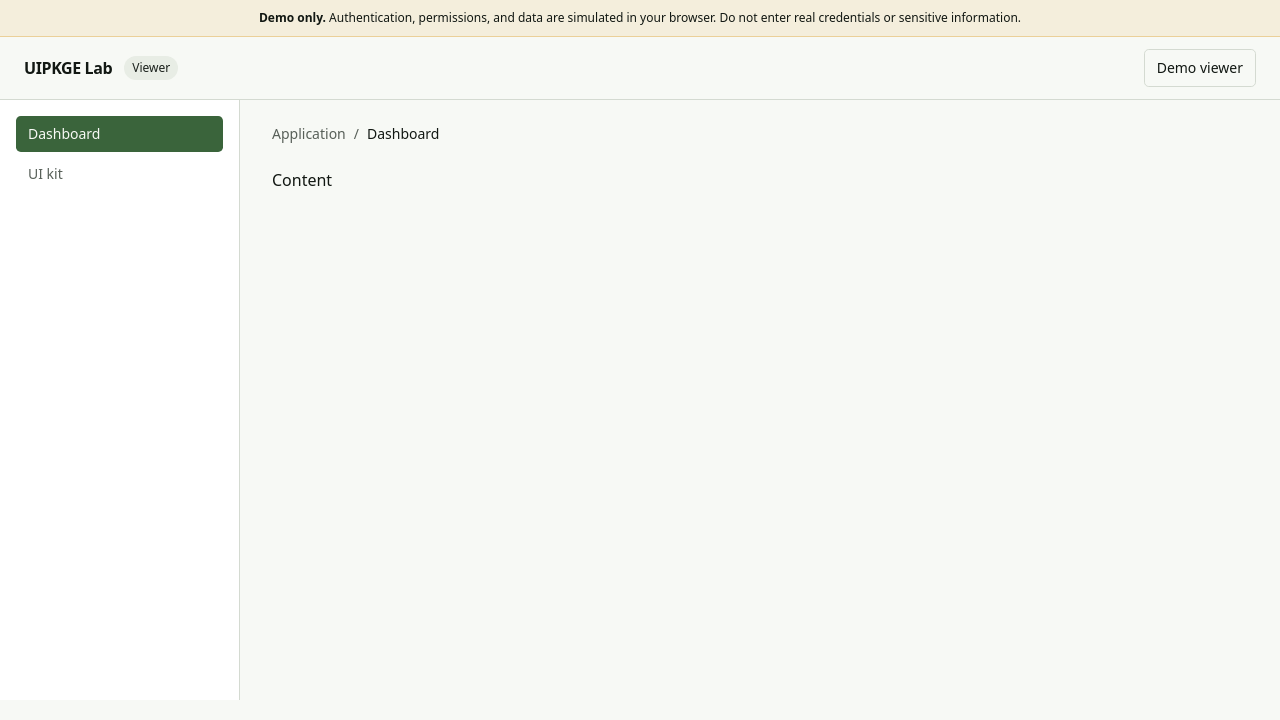
Test: AppShell › keeps a failed logout visible in the user menu
Click the heading "Demo viewer": point(1200, 68) [1144,49,1256,87]
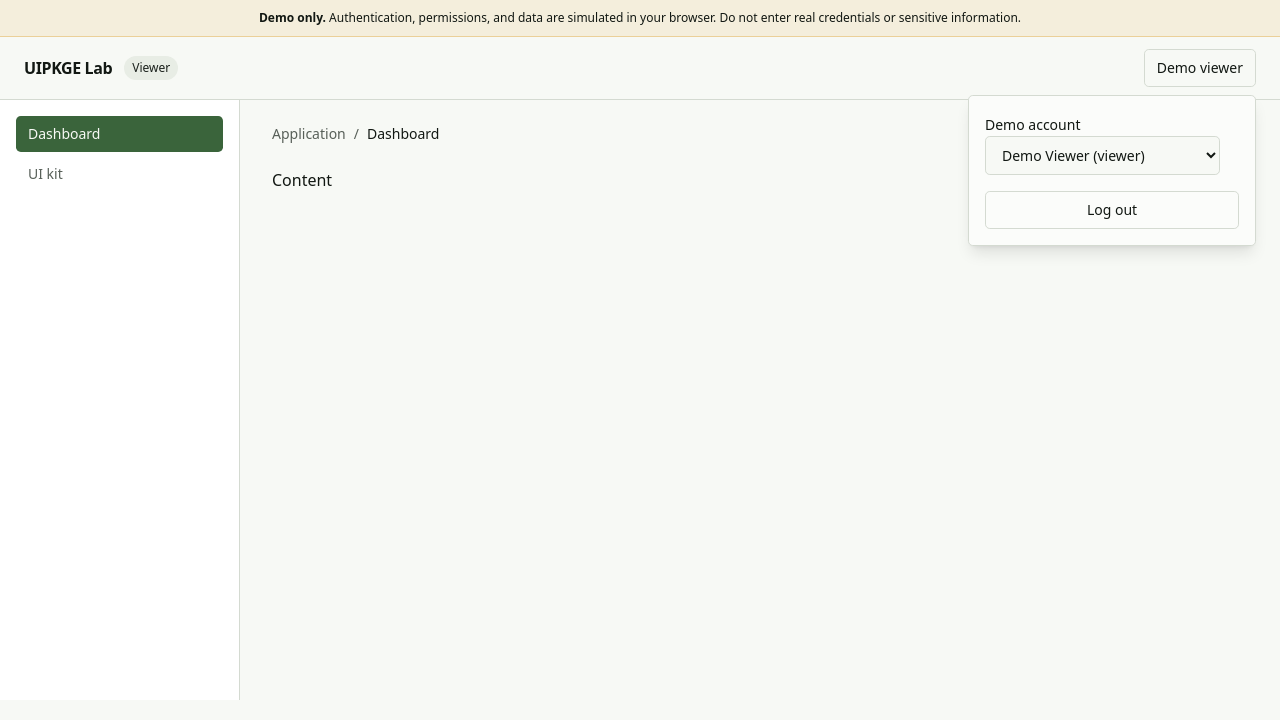
Click the button "Log out": point(1112, 210) [985,191,1239,229]
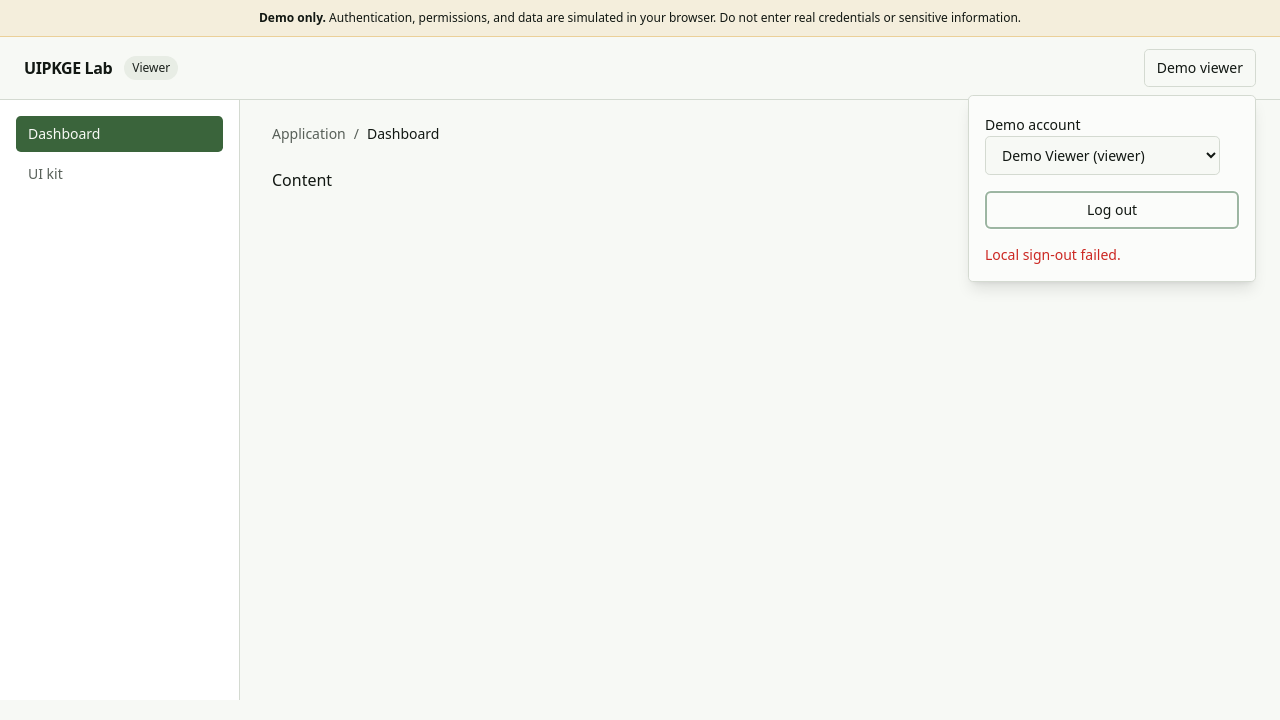
Expected: the message reads "Local sign-out failed.", [985,245,1121,264]
